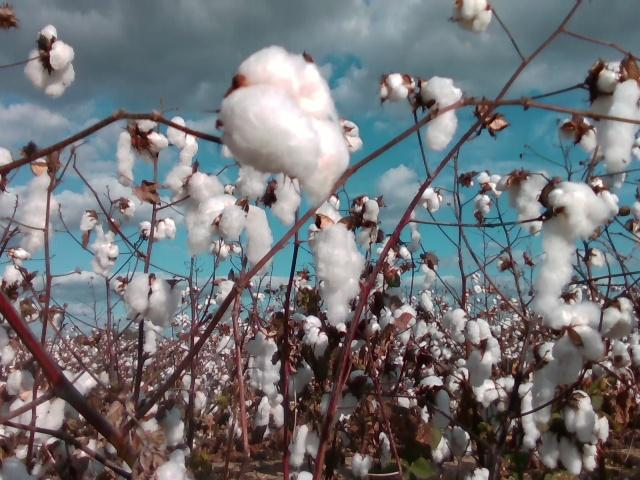cotton_ready: (221, 47, 348, 206), (534, 180, 621, 327), (591, 61, 640, 171), (312, 223, 363, 325), (478, 379, 540, 451), (24, 25, 78, 97), (237, 166, 299, 226), (217, 206, 271, 273), (187, 194, 246, 255), (23, 161, 60, 255), (117, 120, 168, 186), (551, 327, 607, 385), (497, 171, 548, 234), (4, 392, 68, 442), (124, 273, 184, 324), (422, 76, 463, 150), (247, 337, 286, 405), (319, 372, 374, 418), (574, 297, 635, 338), (531, 341, 560, 427), (540, 431, 598, 474), (564, 389, 611, 441), (166, 116, 198, 189), (417, 376, 452, 440), (167, 165, 224, 203), (351, 431, 393, 477), (441, 307, 492, 342), (467, 342, 502, 389), (593, 342, 640, 377), (289, 420, 322, 466), (559, 117, 599, 154), (297, 316, 329, 362), (431, 426, 474, 460), (452, 0, 494, 31), (57, 369, 100, 397), (158, 404, 185, 448), (253, 395, 287, 428), (153, 448, 188, 480), (311, 195, 343, 230), (380, 73, 415, 103), (5, 369, 37, 397), (90, 245, 120, 274), (0, 456, 35, 480), (140, 218, 178, 240), (286, 363, 312, 395), (440, 464, 490, 480), (341, 121, 363, 153), (0, 327, 15, 368), (213, 279, 235, 306), (0, 145, 13, 183)
